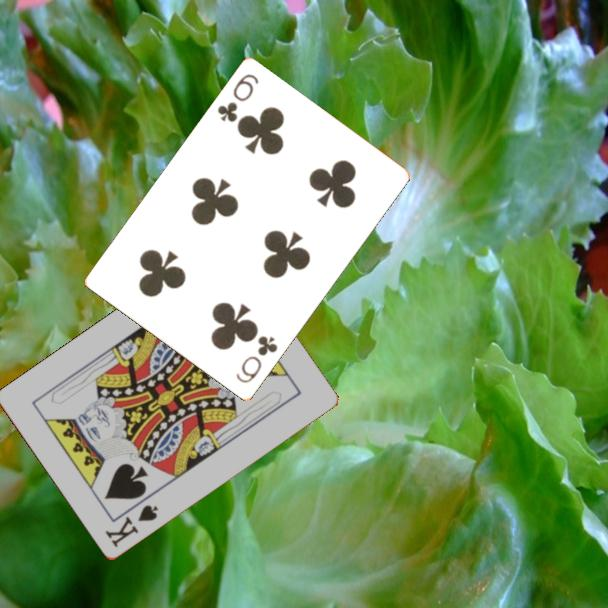c06: (232, 332, 281, 387), (214, 71, 262, 126)
s13: (101, 501, 161, 551)
